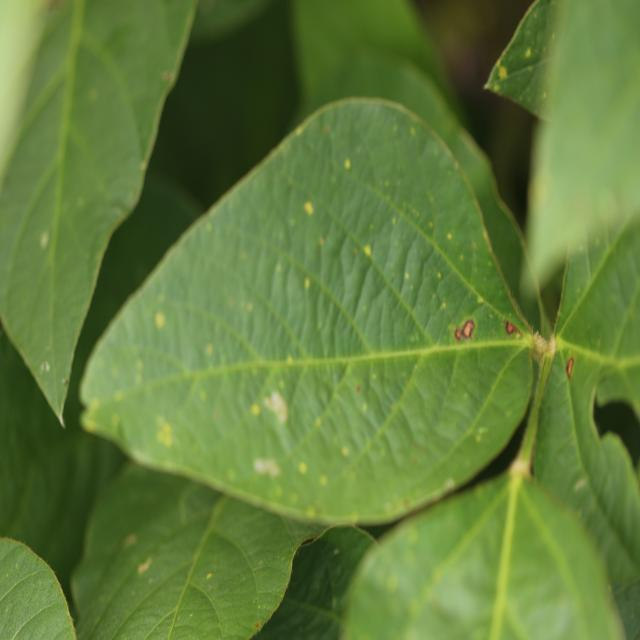Soybean: (0, 0, 640, 640)
downey_mildew: (422, 214, 629, 553), (98, 416, 484, 523), (133, 333, 624, 385), (282, 183, 426, 351), (372, 484, 522, 638), (103, 4, 202, 225), (135, 183, 300, 309), (484, 0, 636, 135), (401, 332, 532, 484), (63, 160, 140, 415), (198, 497, 326, 638), (4, 6, 97, 199), (0, 211, 80, 424), (369, 418, 520, 529), (198, 256, 331, 381), (499, 482, 603, 640), (303, 341, 422, 477), (93, 366, 238, 476), (75, 463, 199, 590), (16, 423, 106, 595), (44, 6, 80, 405), (62, 22, 149, 174), (534, 155, 633, 287), (413, 290, 532, 397), (289, 94, 454, 168), (401, 219, 498, 340), (212, 377, 322, 483), (564, 206, 639, 355), (461, 318, 632, 381), (154, 505, 231, 640), (89, 557, 209, 638), (474, 203, 541, 348), (282, 526, 375, 630), (104, 350, 295, 398), (524, 90, 571, 284), (222, 481, 396, 530), (393, 347, 465, 443), (358, 185, 437, 271), (515, 323, 560, 460), (484, 477, 523, 635), (589, 432, 639, 553), (297, 277, 358, 374), (500, 279, 564, 368), (441, 300, 532, 360), (342, 337, 535, 365), (548, 227, 594, 334), (82, 382, 154, 449), (59, 0, 88, 150), (591, 366, 639, 453), (25, 345, 69, 429), (487, 57, 554, 109), (259, 596, 341, 638), (274, 541, 310, 614), (559, 340, 637, 373), (2, 603, 73, 639), (518, 238, 547, 308), (508, 12, 547, 61), (248, 386, 288, 431), (77, 400, 106, 440), (75, 371, 100, 417), (50, 366, 68, 425), (62, 575, 82, 628), (514, 325, 544, 356), (392, 199, 423, 226), (155, 416, 174, 447), (508, 453, 531, 478), (56, 396, 70, 430), (109, 199, 130, 220), (298, 535, 318, 551), (505, 319, 522, 337), (83, 414, 97, 432), (45, 0, 62, 14), (386, 573, 399, 591), (491, 73, 503, 92), (86, 397, 99, 414), (463, 321, 475, 338), (162, 70, 174, 83), (575, 478, 587, 491), (111, 413, 120, 427), (531, 10, 539, 25), (127, 191, 135, 205), (445, 477, 455, 488), (274, 486, 283, 498), (227, 469, 235, 480), (205, 221, 213, 232), (455, 329, 462, 341), (323, 124, 330, 134), (315, 417, 322, 427), (318, 236, 325, 246), (478, 297, 485, 306), (295, 128, 302, 137), (140, 161, 147, 170), (492, 82, 499, 91), (286, 355, 293, 364), (61, 377, 68, 386), (69, 614, 76, 622), (253, 621, 260, 629), (516, 331, 522, 339), (441, 302, 446, 310), (489, 312, 494, 318), (6, 607, 9, 613)
